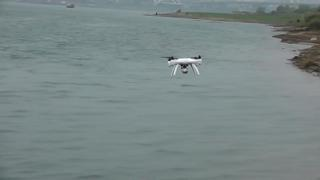UAV: (162, 55, 202, 77)
